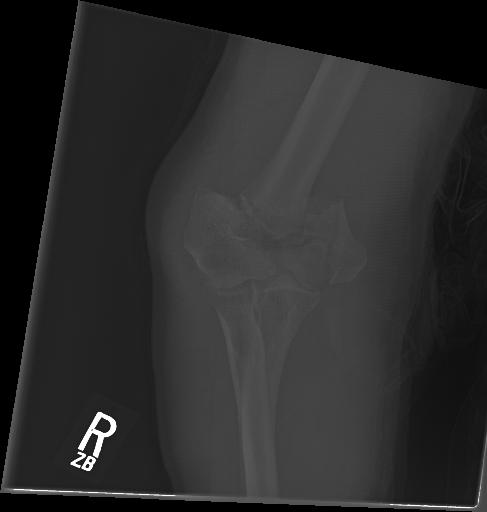elbow positive: (178, 161, 280, 226), (295, 192, 373, 247)
